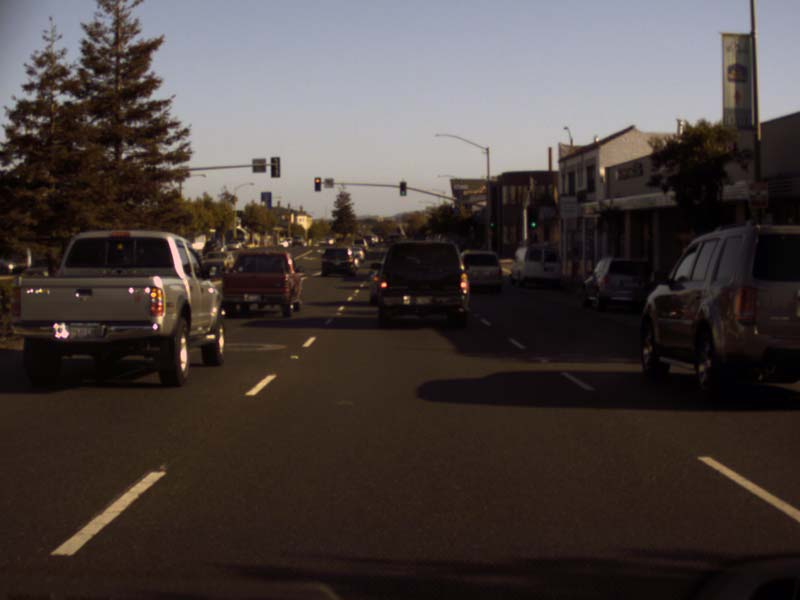Green: (528, 205, 538, 229), (399, 181, 406, 197), (489, 217, 494, 228)
Red: (314, 176, 321, 191)
